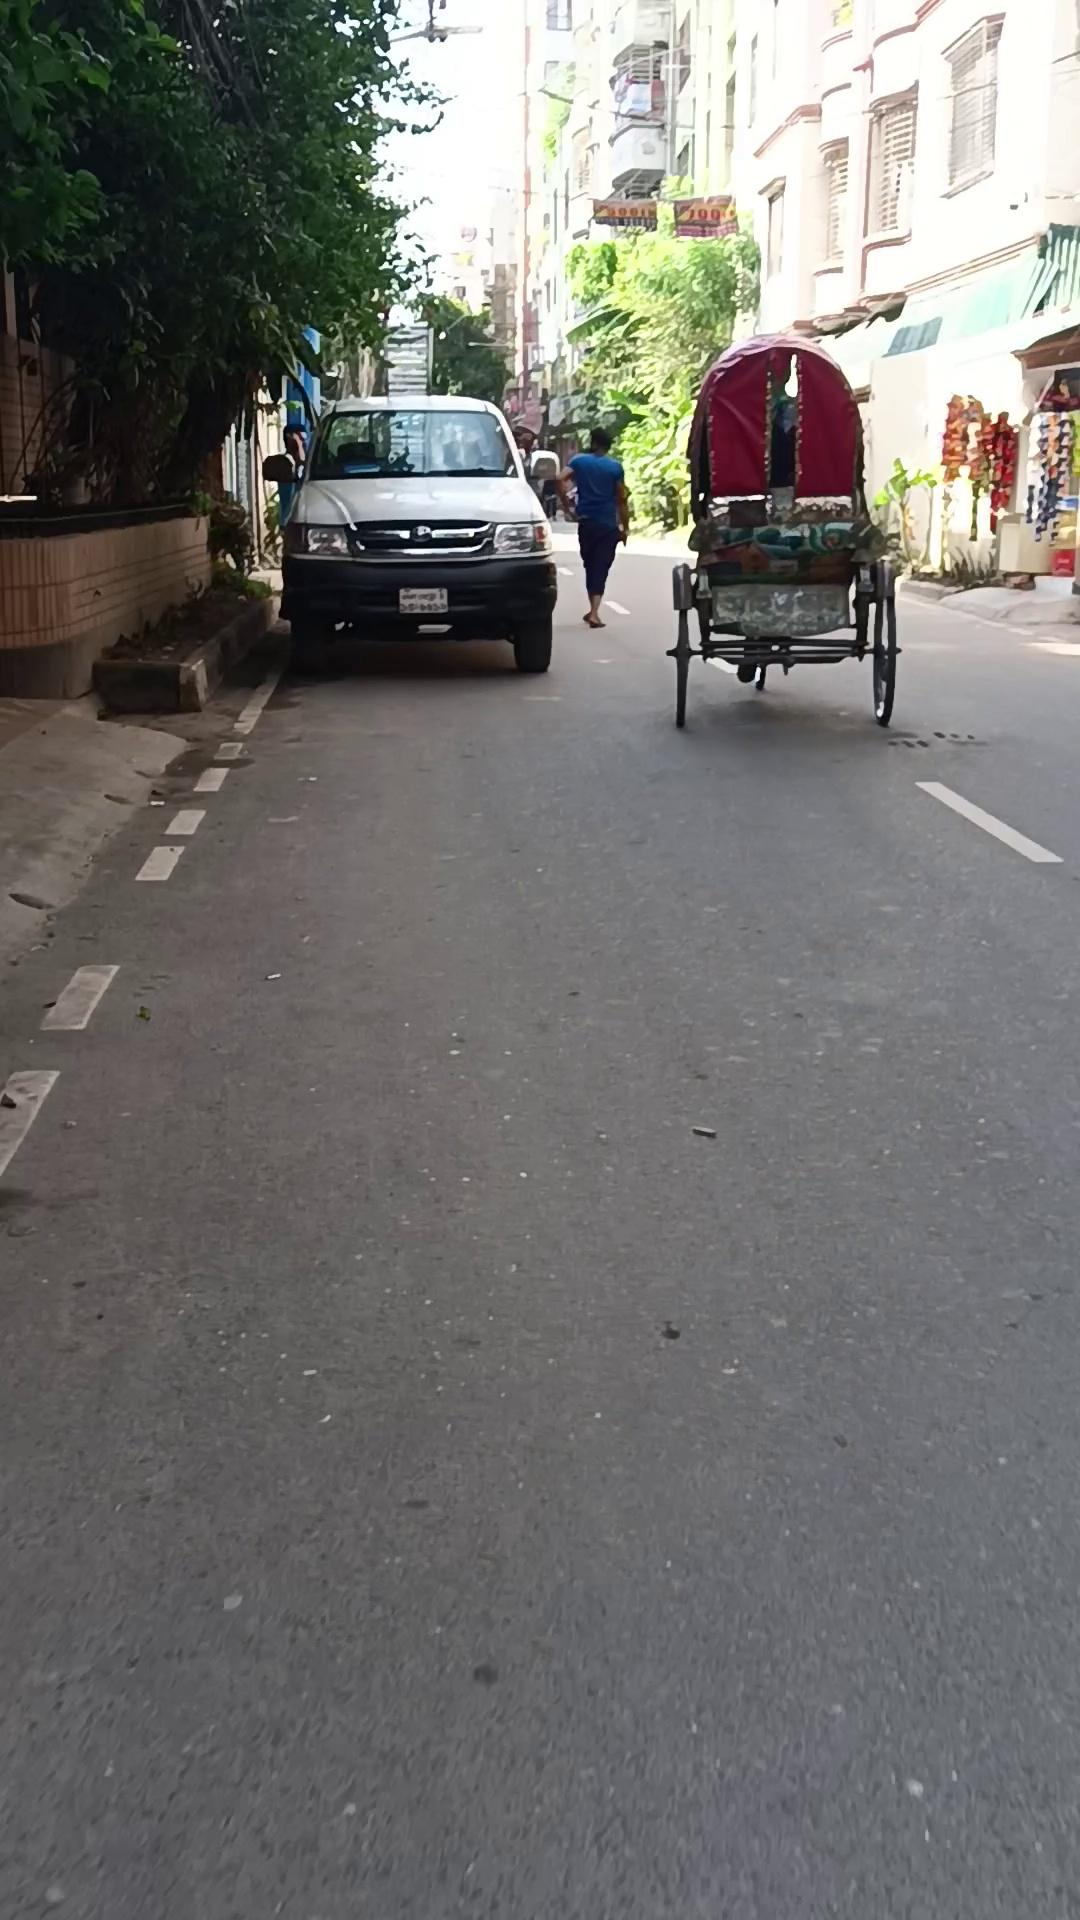Bollard: (268, 392, 558, 674)
Broken-road: (88, 583, 277, 713), (897, 572, 1077, 626)
Curb: (554, 426, 630, 626)
Fallen-tree: (872, 456, 936, 578)
Fence: (665, 332, 901, 731)
Light-pole: (1, 0, 454, 510), (560, 223, 760, 531)
Obstacle: (0, 498, 214, 699)
